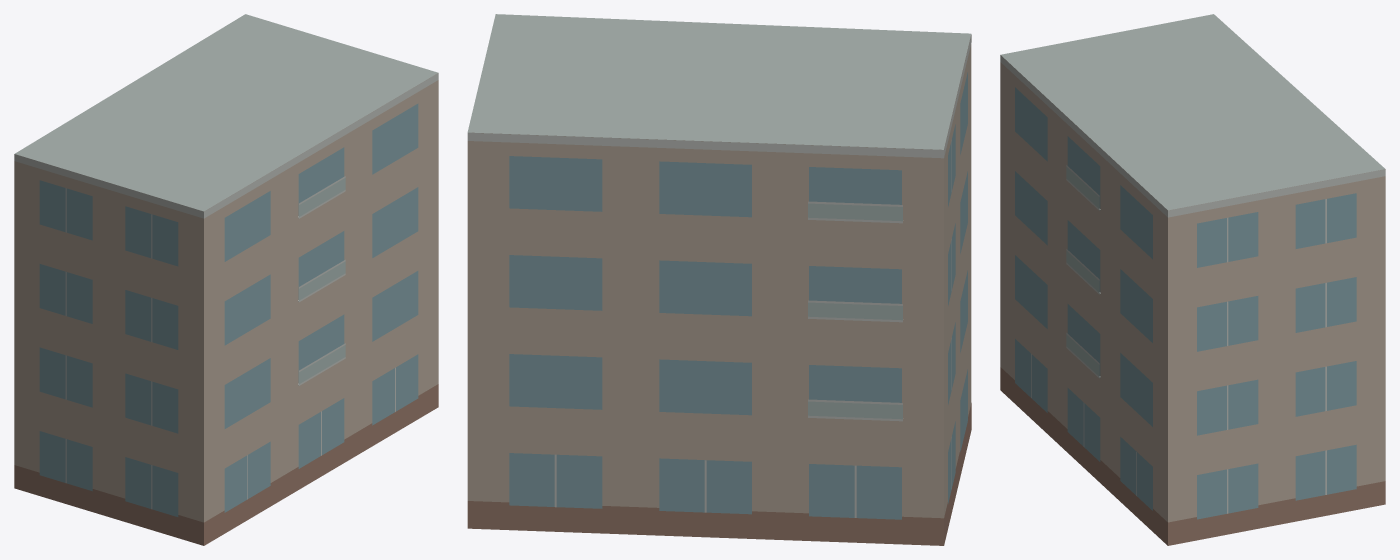
File: survey-upis-32982721.glb
3 views of the same model, side by side, from view 1: azimuth 30°, elevation 25°; view 2: azimuth 150°, elevation 25°; view 3: azimuth 270°, elevation 25° (orthographic). The views are drawn at different scales.
Visible parts, largest first — view 1: survey-upis-32982721.tmp; view 2: survey-upis-32982721.tmp; view 3: survey-upis-32982721.tmp.
Part boxes in pixels (bbox=[...]): survey-upis-32982721.tmp: bbox=[14, 14, 438, 545]; survey-upis-32982721.tmp: bbox=[467, 14, 971, 545]; survey-upis-32982721.tmp: bbox=[1000, 14, 1385, 545].
Bounding box in the file's own units: 14.46 × 11.5 × 11.98.
